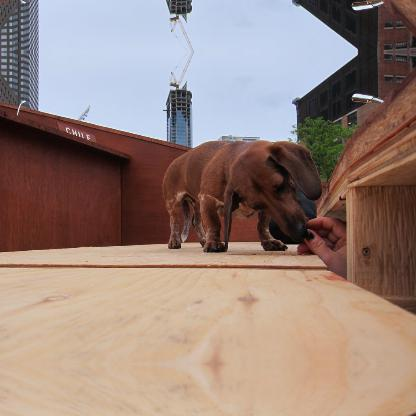Dog: (163, 141, 322, 252), (268, 183, 315, 245)
